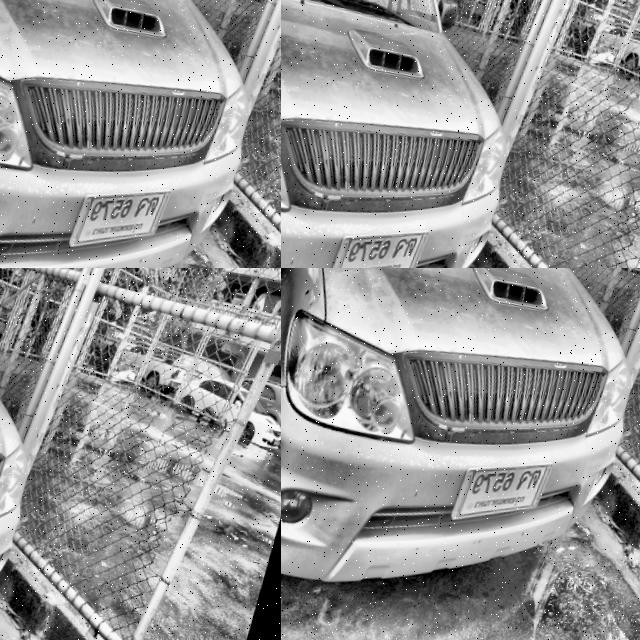license-plate: (449, 442, 562, 546)
